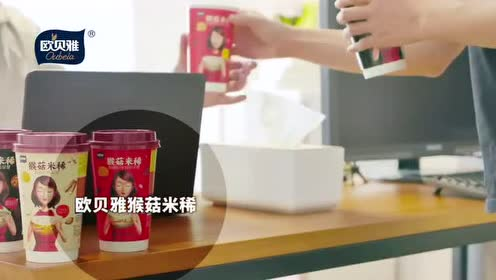cup: (13, 131, 88, 265), (90, 128, 159, 253), (185, 3, 237, 94)
